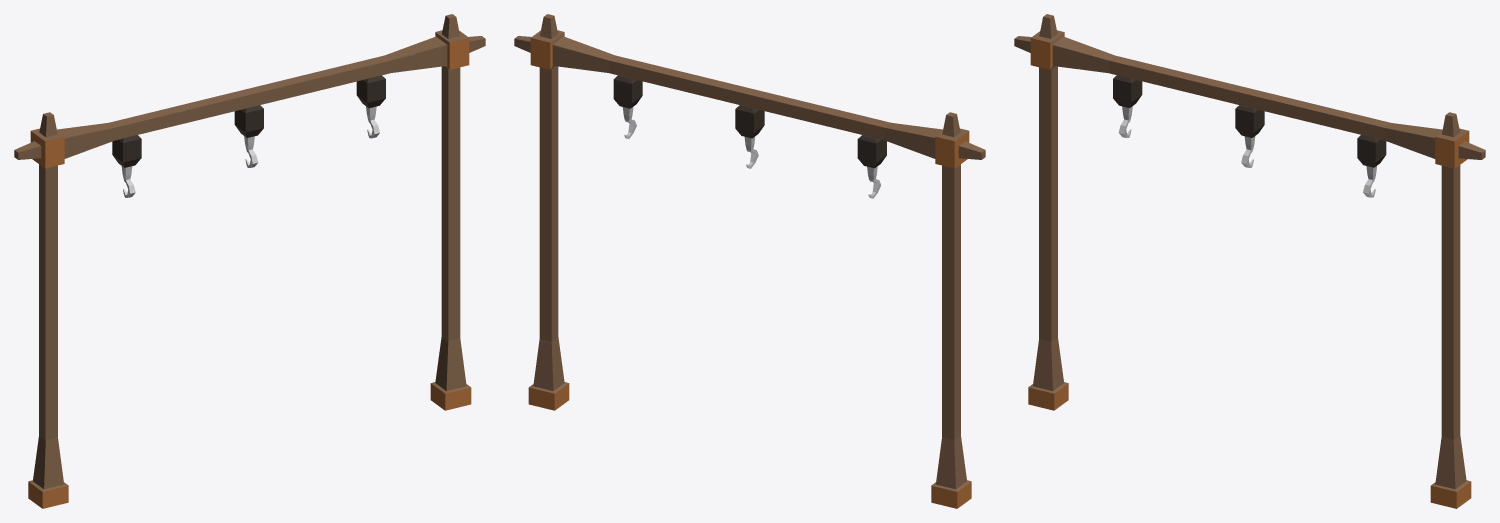
File: ganchos.fbx
The picture shows the model from 3 angles, left to right: view 1: azimuth 30°, elevation 25°; view 2: azimuth 150°, elevation 25°; view 3: azimuth 330°, elevation 25°; orthographic projection.
Visible parts, largest first — view 1: ganchos_pecespintar; view 2: ganchos_pecespintar; view 3: ganchos_pecespintar.
Part boxes in pixels (box(x1,y1,x2,y2)): ganchos_pecespintar: box(14, 14, 485, 508); ganchos_pecespintar: box(514, 14, 985, 508); ganchos_pecespintar: box(1014, 14, 1485, 508).
Size of the model in its own units: 2902 by 2290 by 156.
1 material, 1 textured.
